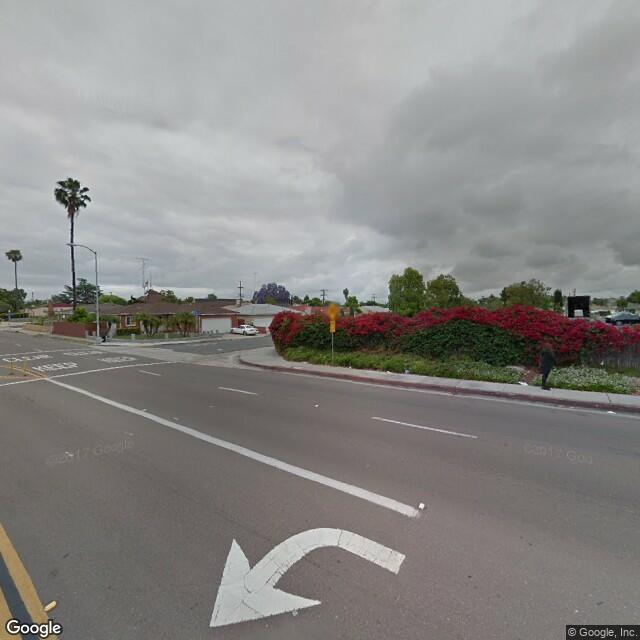litter: (516, 376, 528, 383), (382, 365, 390, 371), (605, 407, 611, 413)
